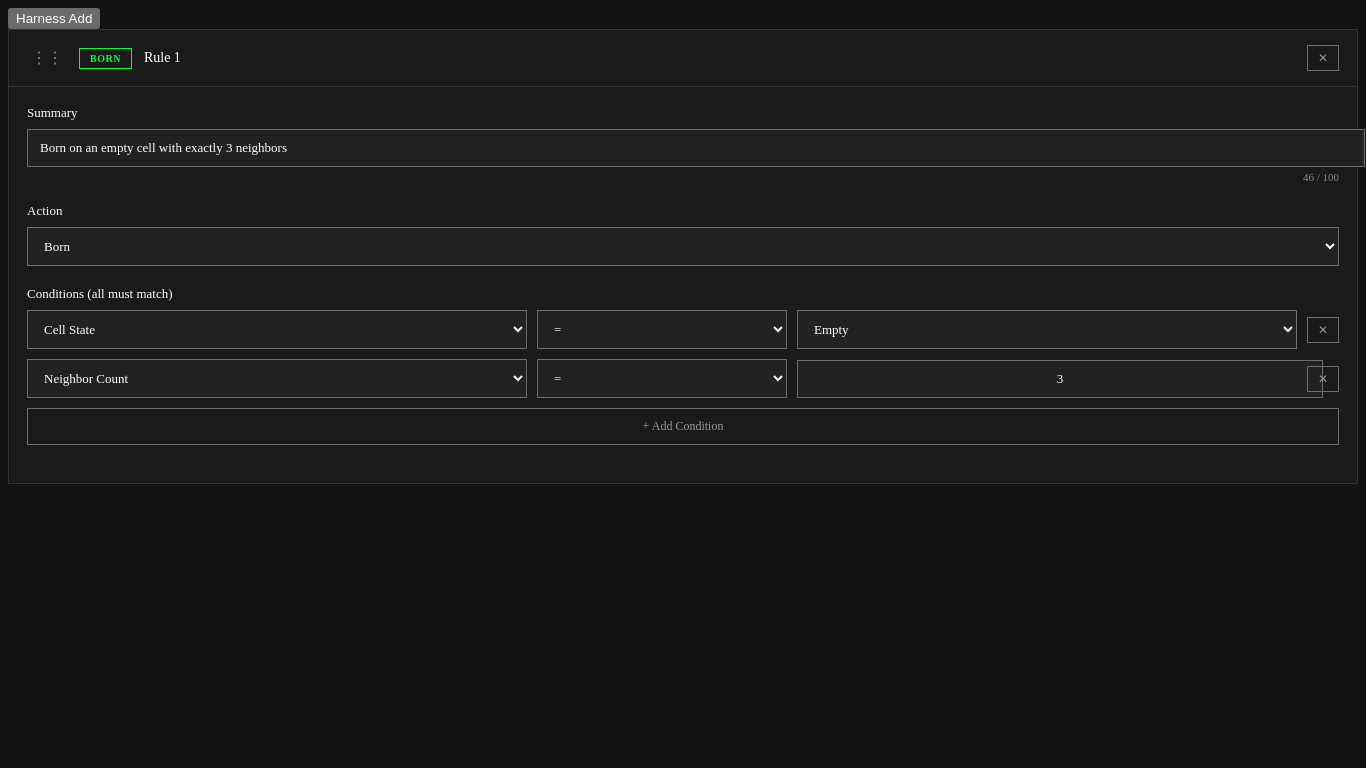
Test: RulesEditor › deleting the only rule returns to the empty state, focused on Add Rule
Click the button named "Delete rule 1" at (1323, 58), box [1307,45,1339,71]
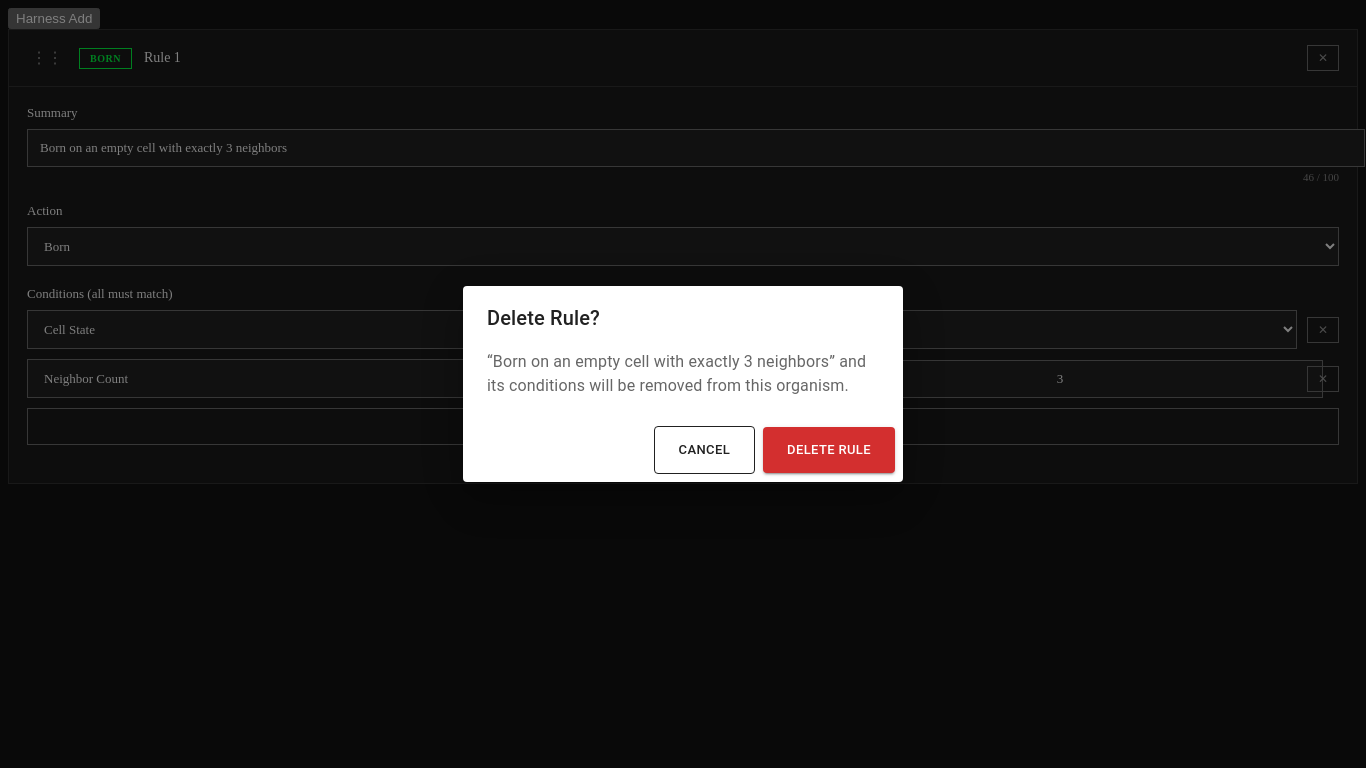
Click the button "Delete Rule" at (829, 450), box [763,427,895,473]
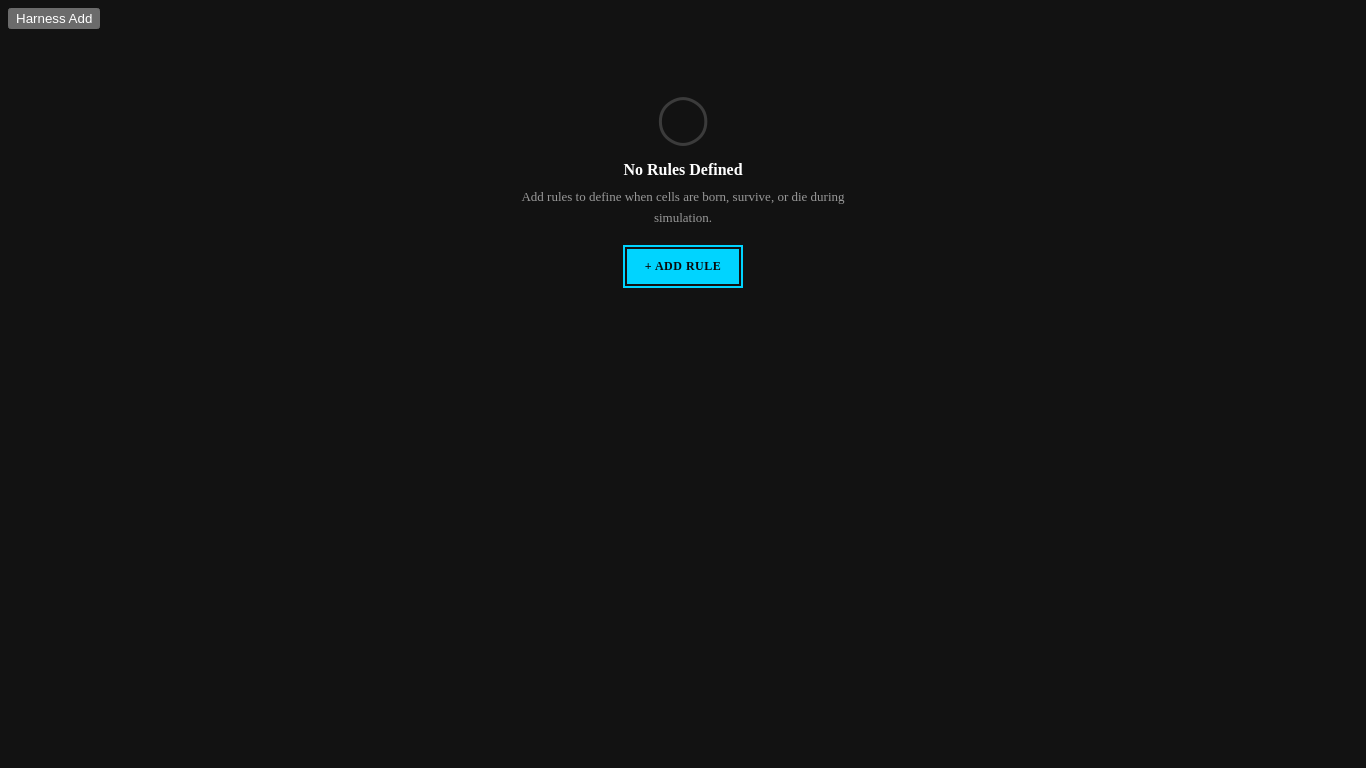
Expected: the heading "Delete Rule?" is gone
Expected: the text "No Rules Defined" is shown, [623,161,742,178]
